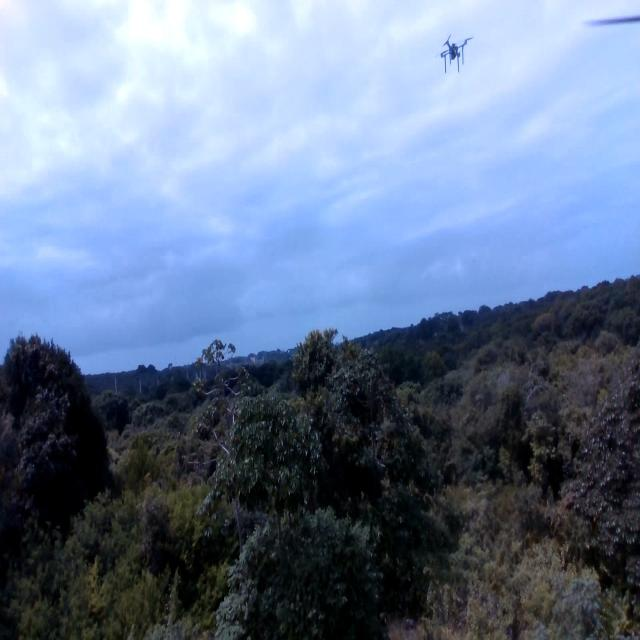-uav-: (435, 28, 476, 77)
